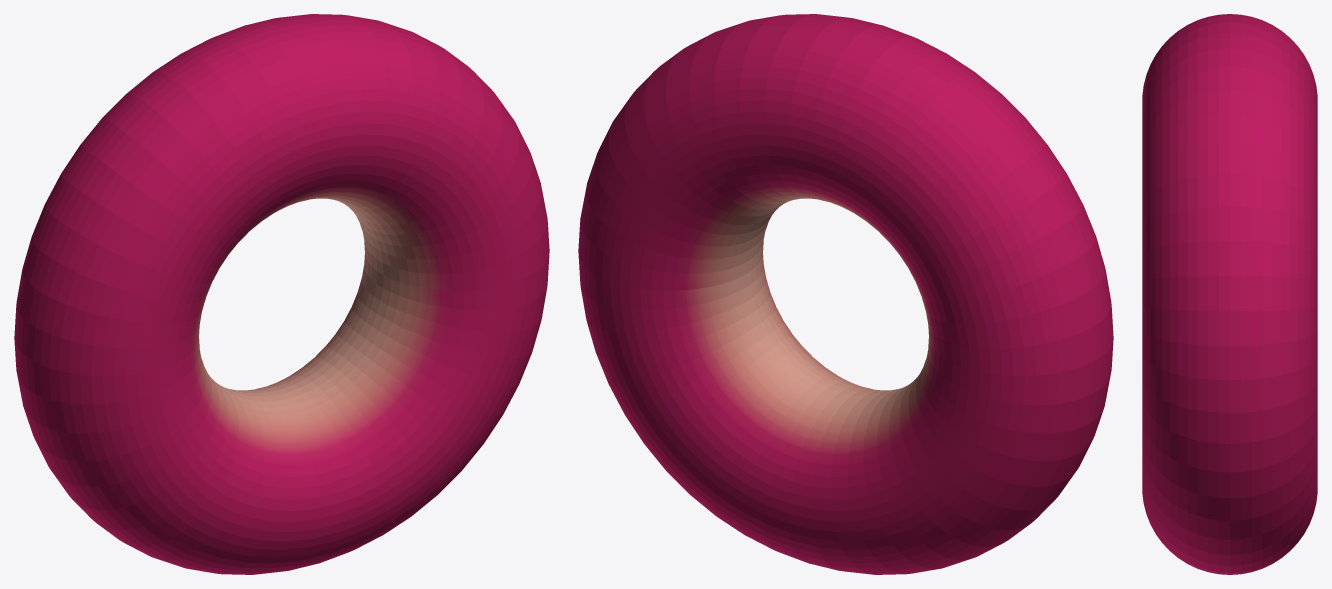
3 views of the same model, side by side, from view 1: azimuth 30°, elevation 25°; view 2: azimuth 150°, elevation 25°; view 3: azimuth 270°, elevation 25° (orthographic). The views are drawn at different scales.
Visible parts, largest first — view 1: world; view 2: world; view 3: world.
Boxes of the visible parts, x1=… form: world: x1=14, y1=14, x2=549, y2=574; world: x1=578, y1=14, x2=1113, y2=574; world: x1=1142, y1=14, x2=1317, y2=574.
Bounding box in the file's own units: 31.07 × 31.01 × 9.71.
